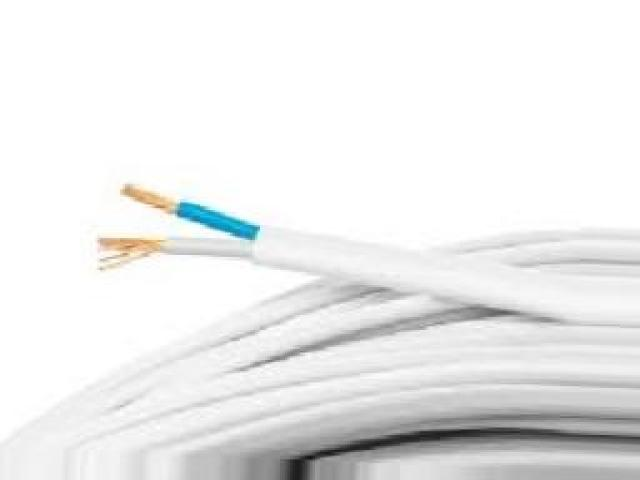wire: (0, 174, 640, 480)
